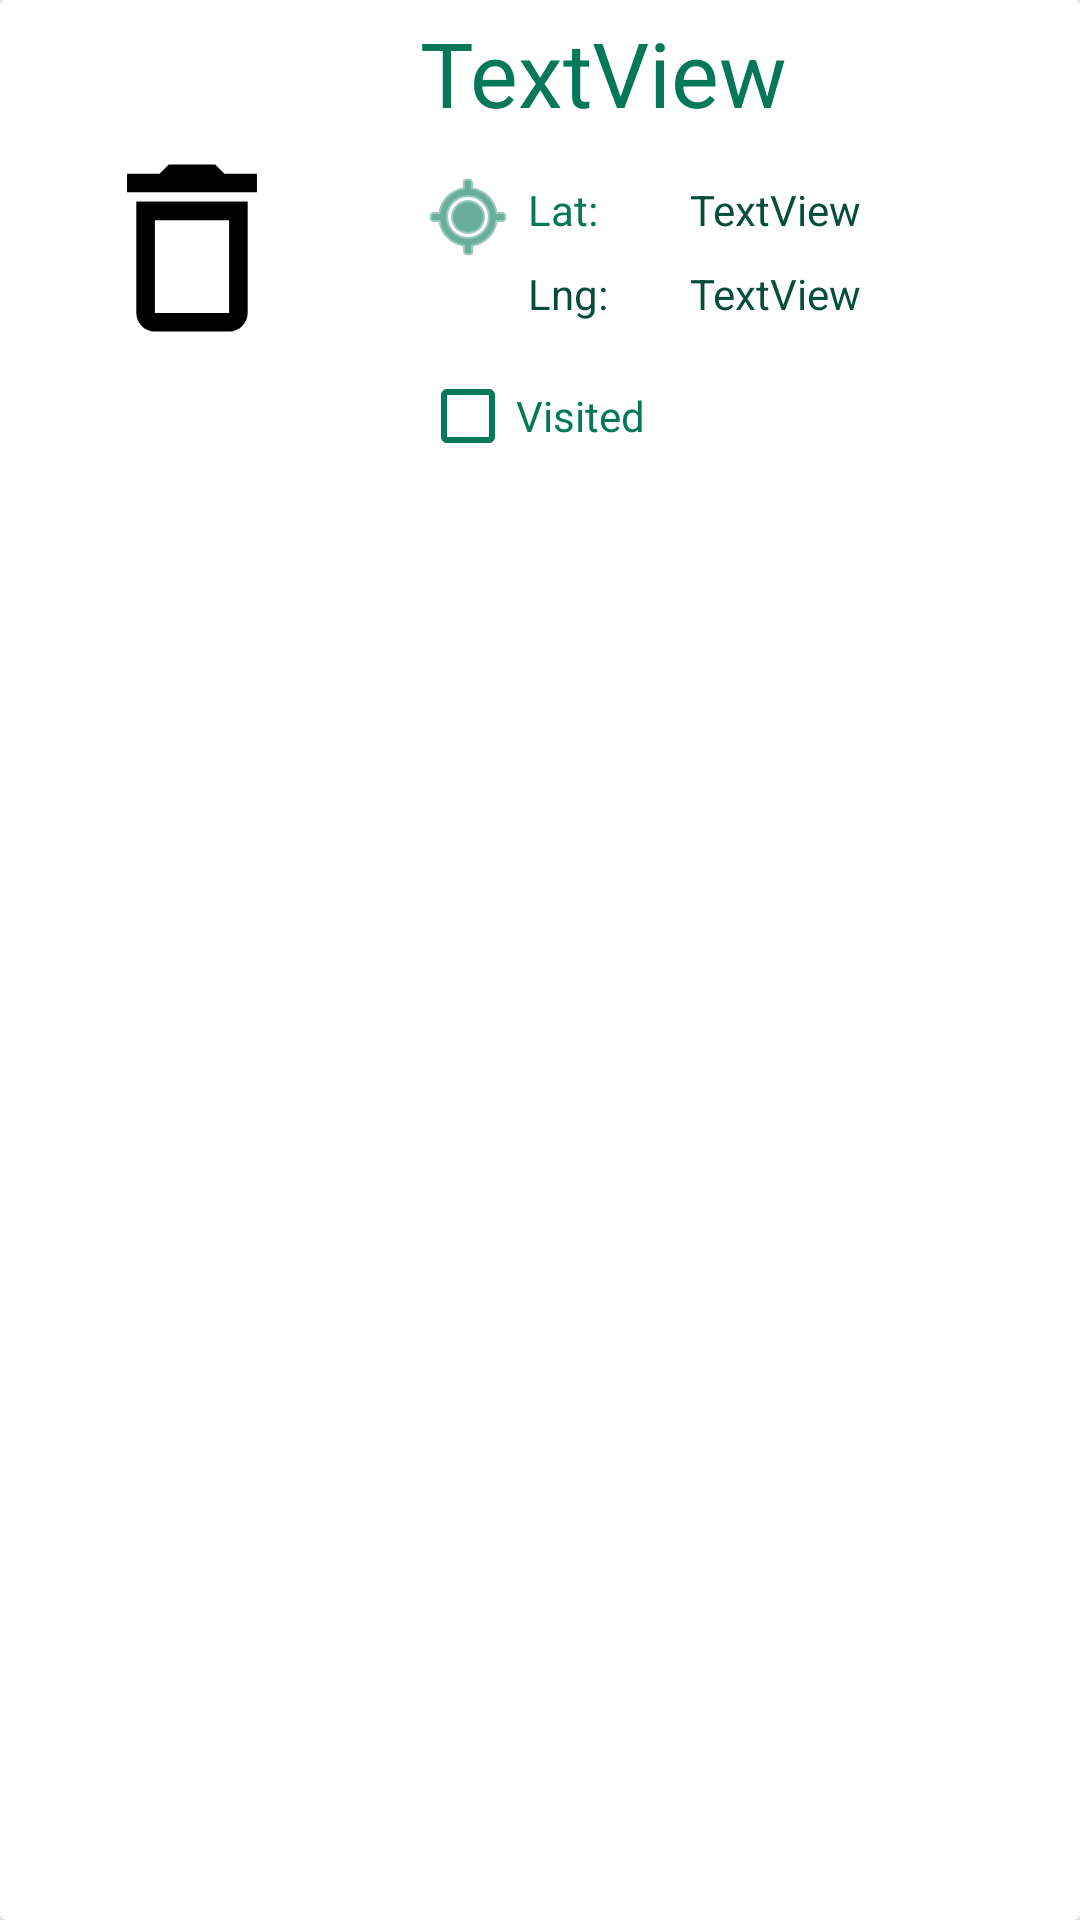

Icons on this 1080*1920 Android screen, each with its box as (x1, y1, x2, y2):
mylocation: (430, 179, 506, 255)
